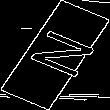N_SE: (14, 25, 96, 85)
